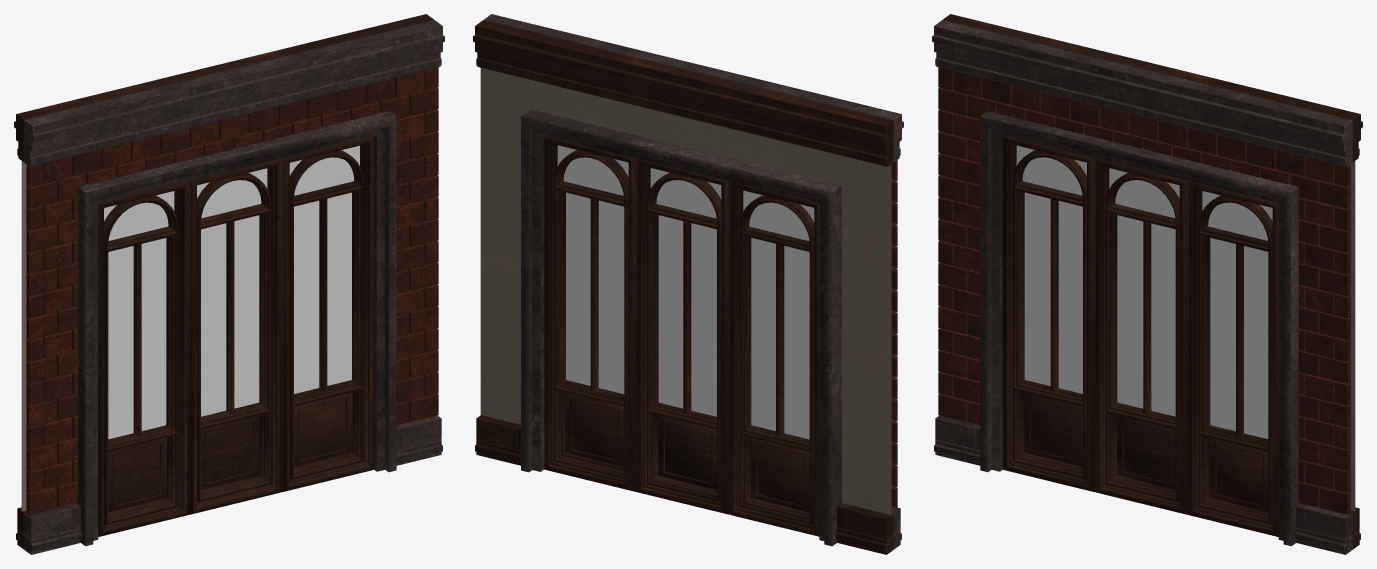
File: SK3 WINDOW3.fbx
3 renders of one model, left to right at view 1: azimuth 30°, elevation 25°; view 2: azimuth 150°, elevation 25°; view 3: azimuth 330°, elevation 25°, orthographic.
Parts seen in each view (by area): view 1: SK3 WINDOW3; view 2: SK3 WINDOW3; view 3: SK3 WINDOW3.
Boxes of the visible parts, bbox=[...] form: SK3 WINDOW3: bbox=[14, 14, 444, 554]; SK3 WINDOW3: bbox=[473, 14, 903, 554]; SK3 WINDOW3: bbox=[932, 14, 1362, 554].
Bounding box in the file's own units: 400 × 400 × 39.92.
